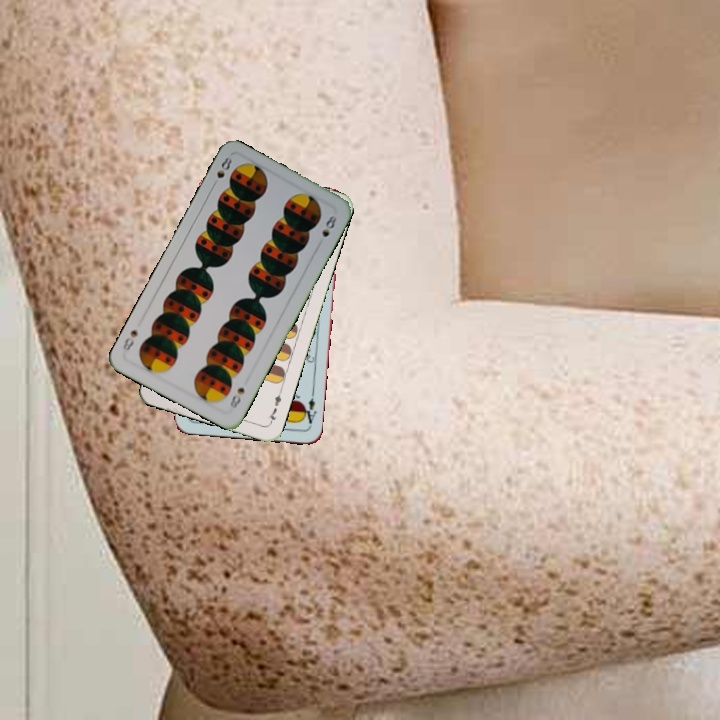E7: (264, 387, 284, 426)
EA: (299, 388, 319, 429)
S8: (208, 153, 235, 190), (226, 383, 247, 411)
